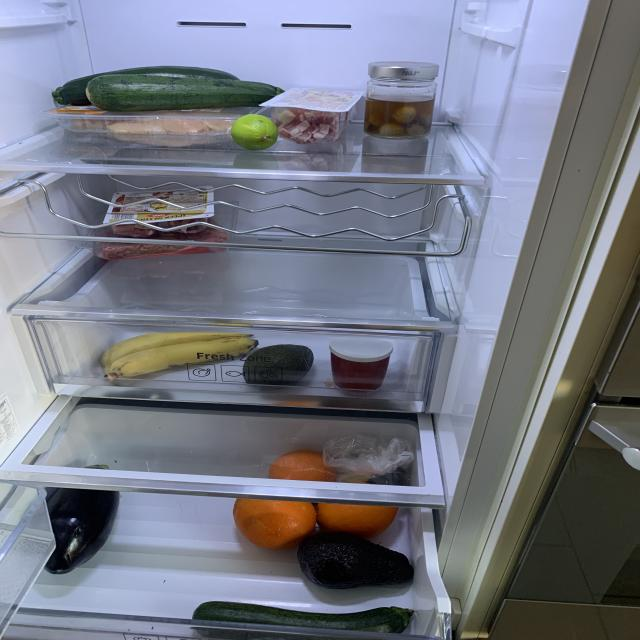aubergine: (42, 463, 121, 574)
avocado: (299, 534, 416, 588), (246, 345, 313, 388)
bacon: (274, 107, 339, 142), (168, 218, 208, 234), (113, 223, 155, 238)
banana: (99, 334, 259, 381)
chicken_breast: (71, 116, 237, 144)
courgettes: (54, 64, 286, 111), (196, 599, 412, 636)
ground_beef: (100, 232, 224, 260)
lime: (233, 115, 276, 149)
olives: (366, 94, 432, 138)
orange: (234, 494, 316, 550), (318, 502, 397, 536), (269, 451, 336, 482)
tomato_sauce: (332, 349, 389, 392)
